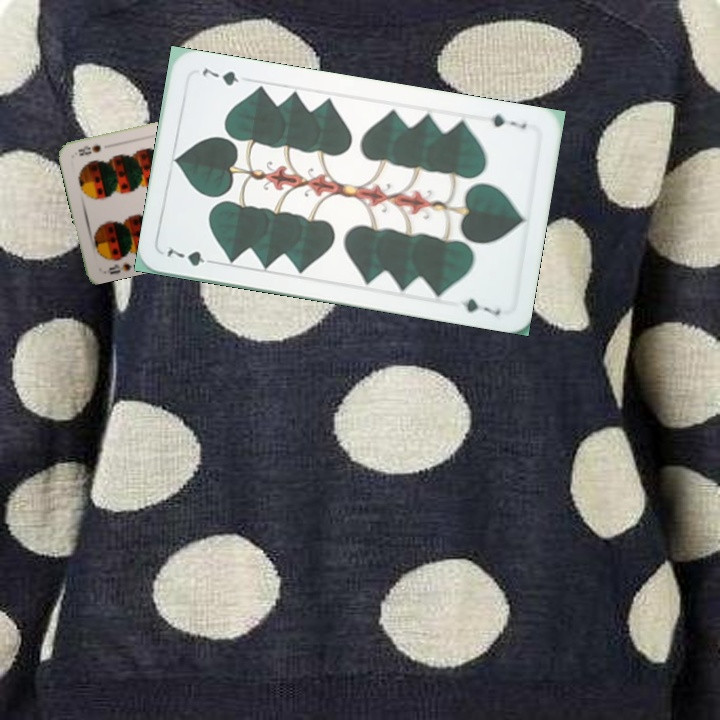G7: (162, 245, 220, 269), (487, 109, 529, 131)
S8: (102, 258, 134, 277)
